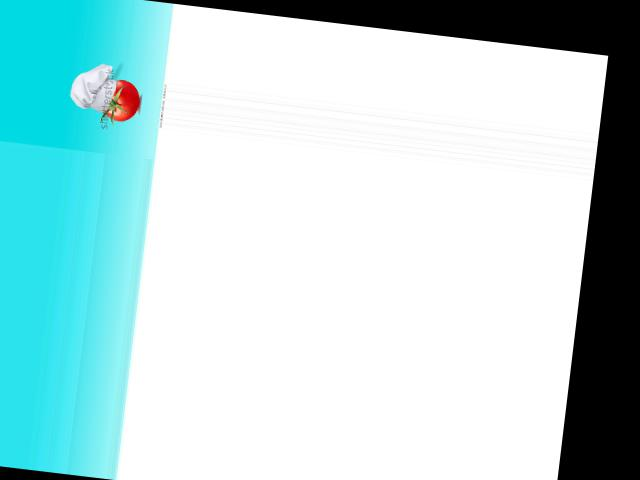tomato: (102, 78, 141, 122)
